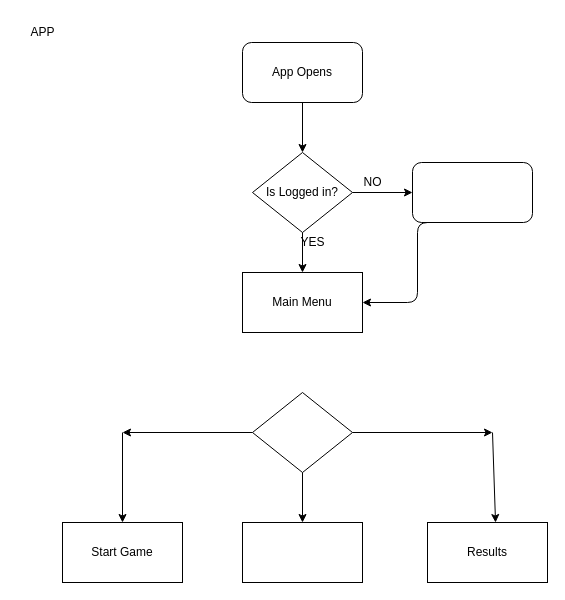
Image size: 565x600. Some labels were removed from this diagram. Here are the shapes that lost their labels. From the top down, the centre of each, then its label:
the point at 472,192: Registration
the point at 302,432: User Buttons
